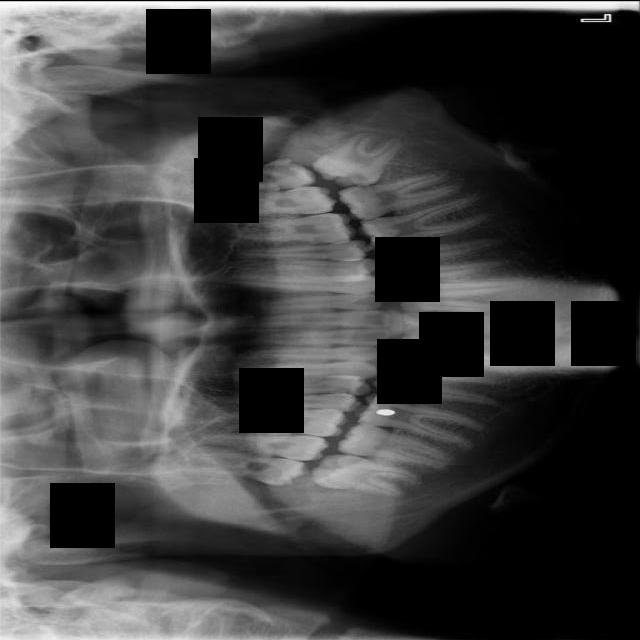3M ESPE Implant: (175, 446, 310, 488)
52: (354, 382, 410, 439), (248, 159, 301, 176), (337, 172, 368, 186), (383, 245, 404, 255), (360, 183, 378, 191)
73: (516, 70, 530, 78)
BioHorizons Implant: (203, 184, 337, 218)
BioLife Implant: (183, 154, 318, 201)
Biomet 3i Implant: (310, 113, 415, 205)
Blue Sky Bio Implant: (338, 169, 464, 222)
Caries: (194, 430, 331, 460)
Implant: (339, 420, 455, 469)
Keystone Dental Implant: (311, 451, 422, 498)
